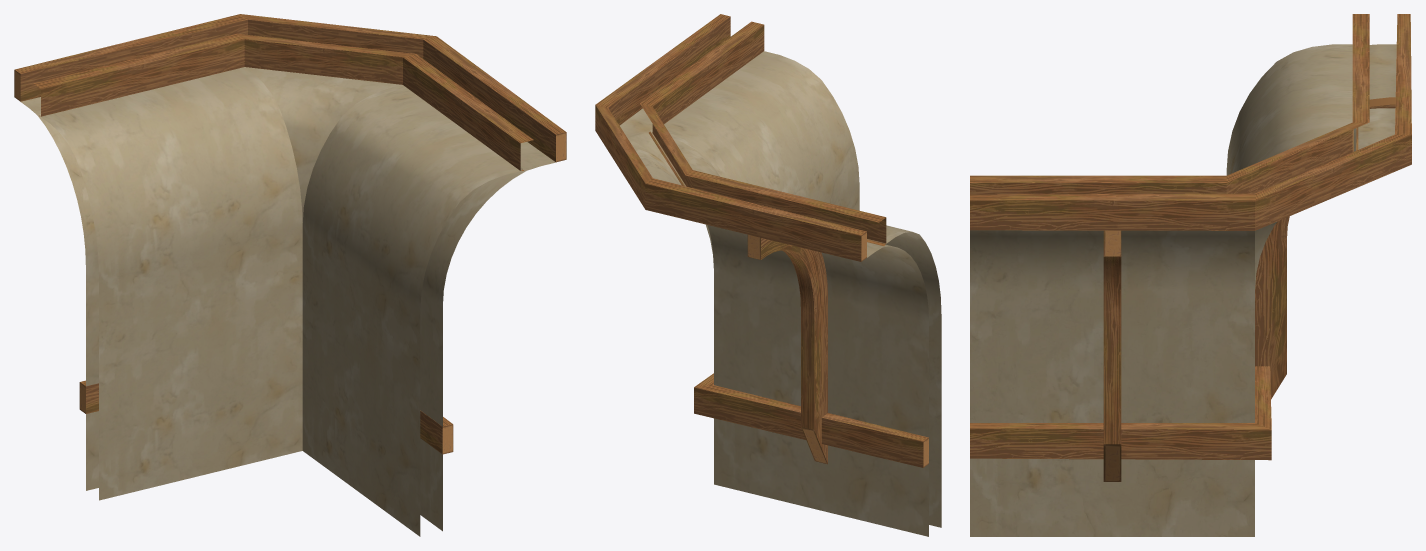
The model's file is Overhang_Plaster_Corner.gltf.
3 views of the same model, side by side, from view 1: azimuth 30°, elevation 25°; view 2: azimuth 150°, elevation 25°; view 3: azimuth 270°, elevation 25° (orthographic). The views are drawn at different scales.
Visible parts, largest first — view 1: Overhang_Plaster_Corner; view 2: Overhang_Plaster_Corner; view 3: Overhang_Plaster_Corner.
Part boxes in pixels (x1=…): Overhang_Plaster_Corner: x1=14, y1=14, x2=566, y2=536; Overhang_Plaster_Corner: x1=595, y1=14, x2=941, y2=536; Overhang_Plaster_Corner: x1=970, y1=14, x2=1411, y2=536.
Size of the model in its own units: 3.1 by 3.12 by 3.1.
2 materials, 2 textured.
